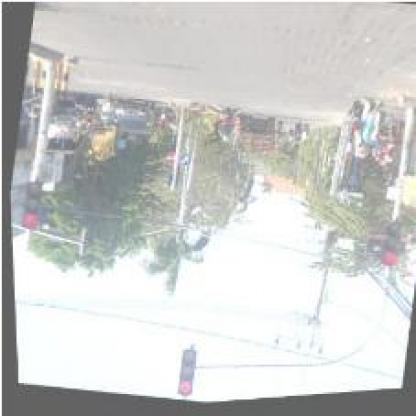red: (17, 178, 42, 233), (169, 350, 194, 401), (376, 224, 401, 271)
